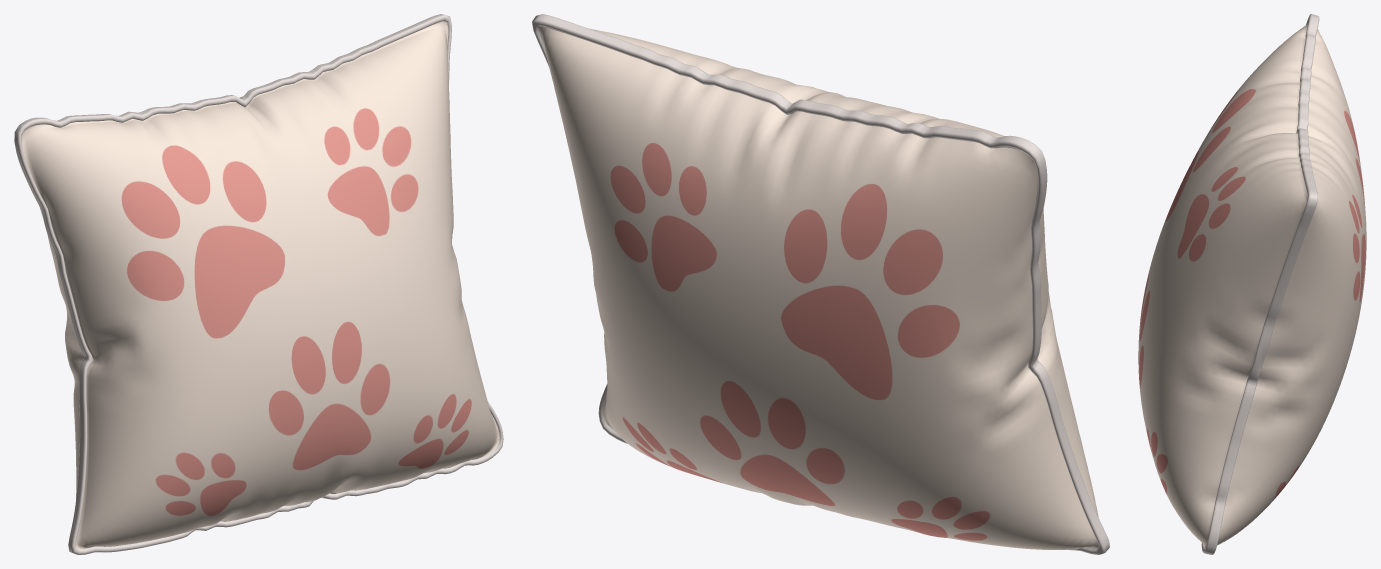
3 renders of one model, left to right at view 1: azimuth 30°, elevation 25°; view 2: azimuth 150°, elevation 25°; view 3: azimuth 270°, elevation 25°, orthographic. The views are drawn at different scales.
Parts seen in each view (by area): view 1: Obj3d66-18121221-4-845, Obj3d66-18121221-5-286; view 2: Obj3d66-18121221-4-845, Obj3d66-18121221-5-286; view 3: Obj3d66-18121221-4-845, Obj3d66-18121221-5-286.
Boxes of the visible parts, x1,y1,x2,y2 form: Obj3d66-18121221-4-845: (21,21,499,549); Obj3d66-18121221-5-286: (14,14,503,554); Obj3d66-18121221-4-845: (539,26,1098,549); Obj3d66-18121221-5-286: (532,14,1109,554); Obj3d66-18121221-4-845: (1138,23,1366,547); Obj3d66-18121221-5-286: (1201,14,1319,554).
Size of the model in its own units: 0.4843 by 0.4311 by 0.2412.
2 materials, 1 textured.
